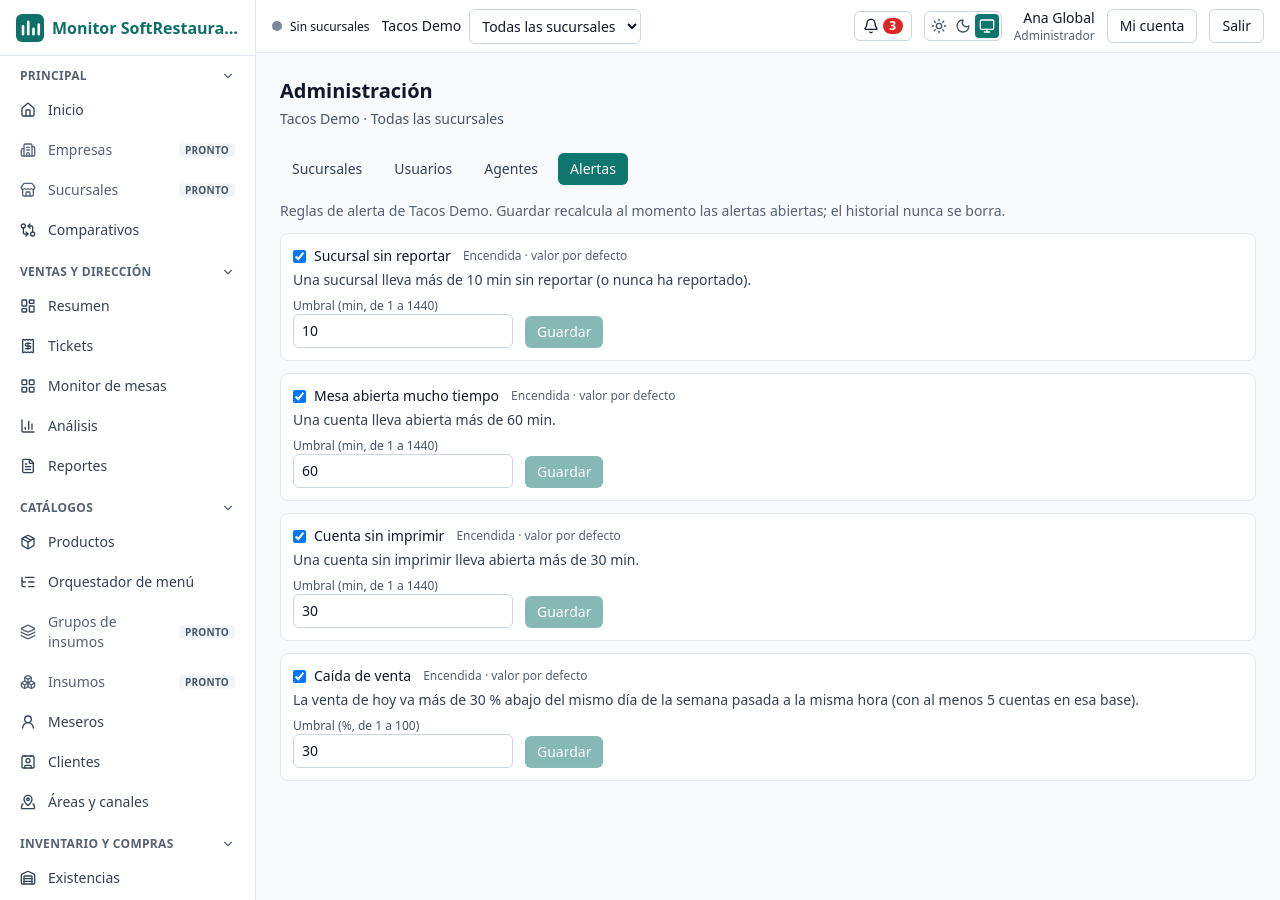
Test case: Administración › Alertas (reglas) › un umbral fuera de rango no se manda; un 400 del API se muestra
Replace the text in the field labelled "Umbral (%, de 1 a 100)" with "101" at {"x": 403, "y": 751}, box [293, 734, 513, 768]
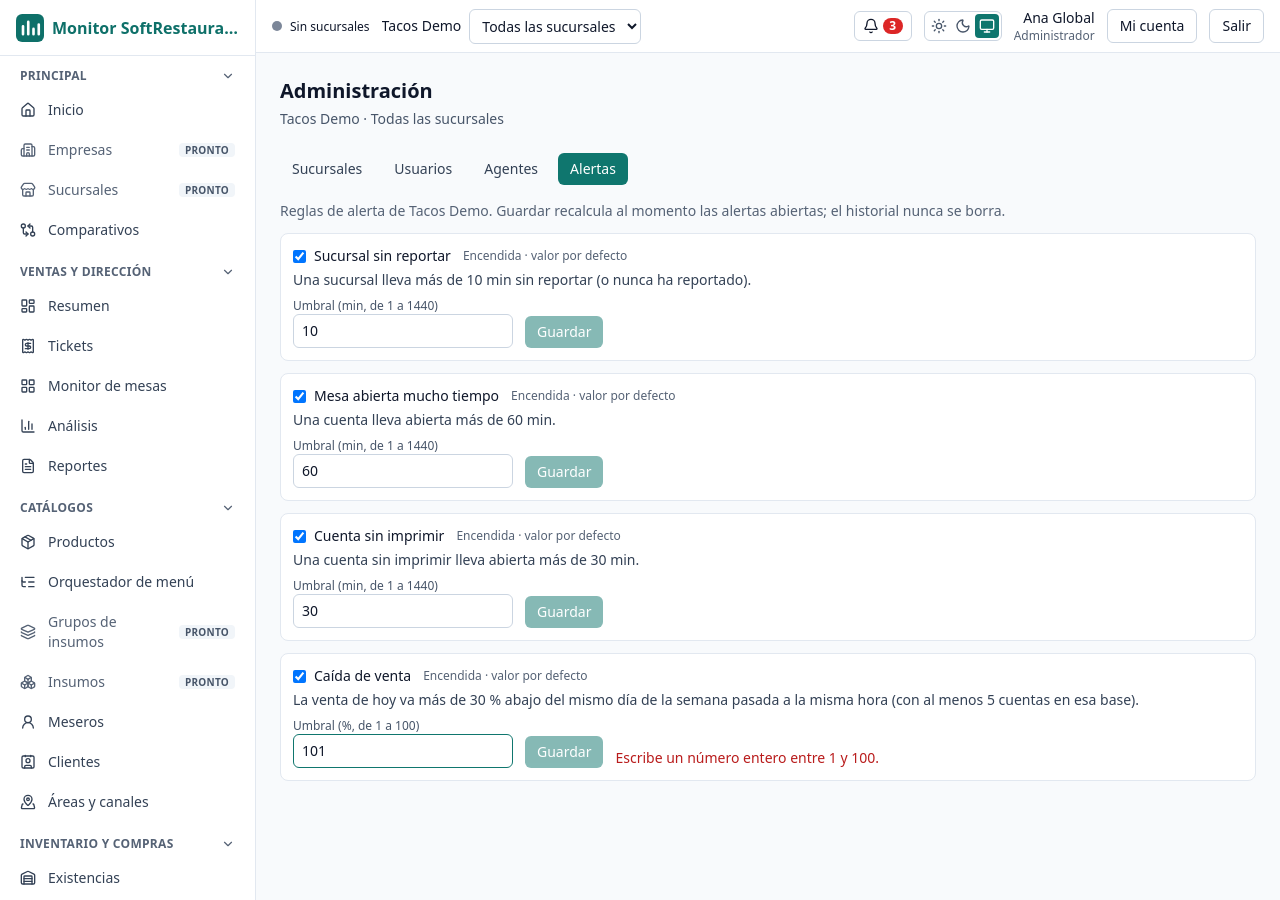
expect the button "Guardar" next to "Escribe un número entero entre" is disabled: met, box [525, 736, 604, 768]
expect the text "Escribe un número entero entre 1 y 100." is shown: met, box [616, 748, 879, 768]
Replace the text in the field labelled "Umbral (%, de 1 a 100)" with "30" at {"x": 403, "y": 751}, box [293, 734, 513, 768]
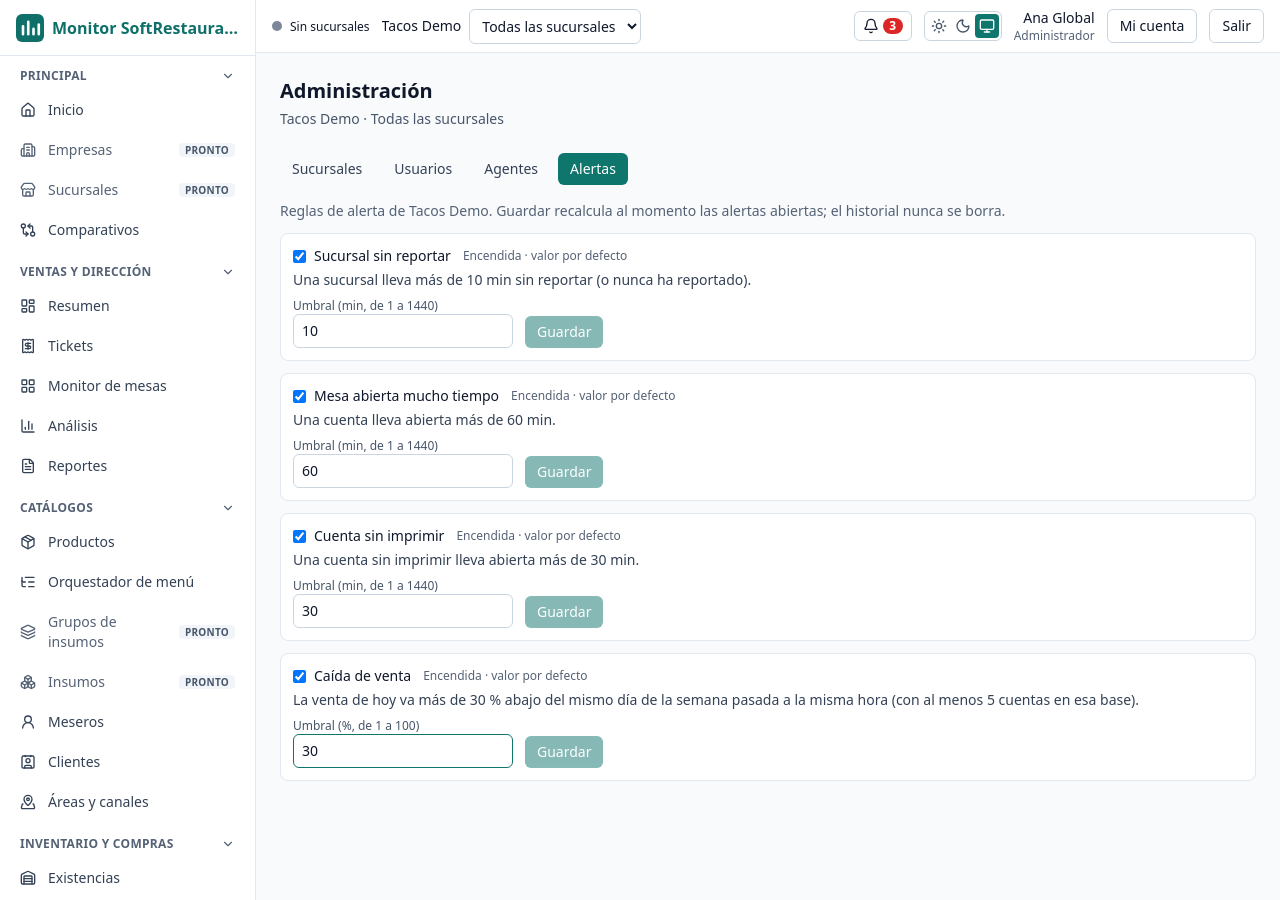
Click the checkbox labelled "Caída de venta".
click(300, 676)  # box [293, 670, 306, 682]
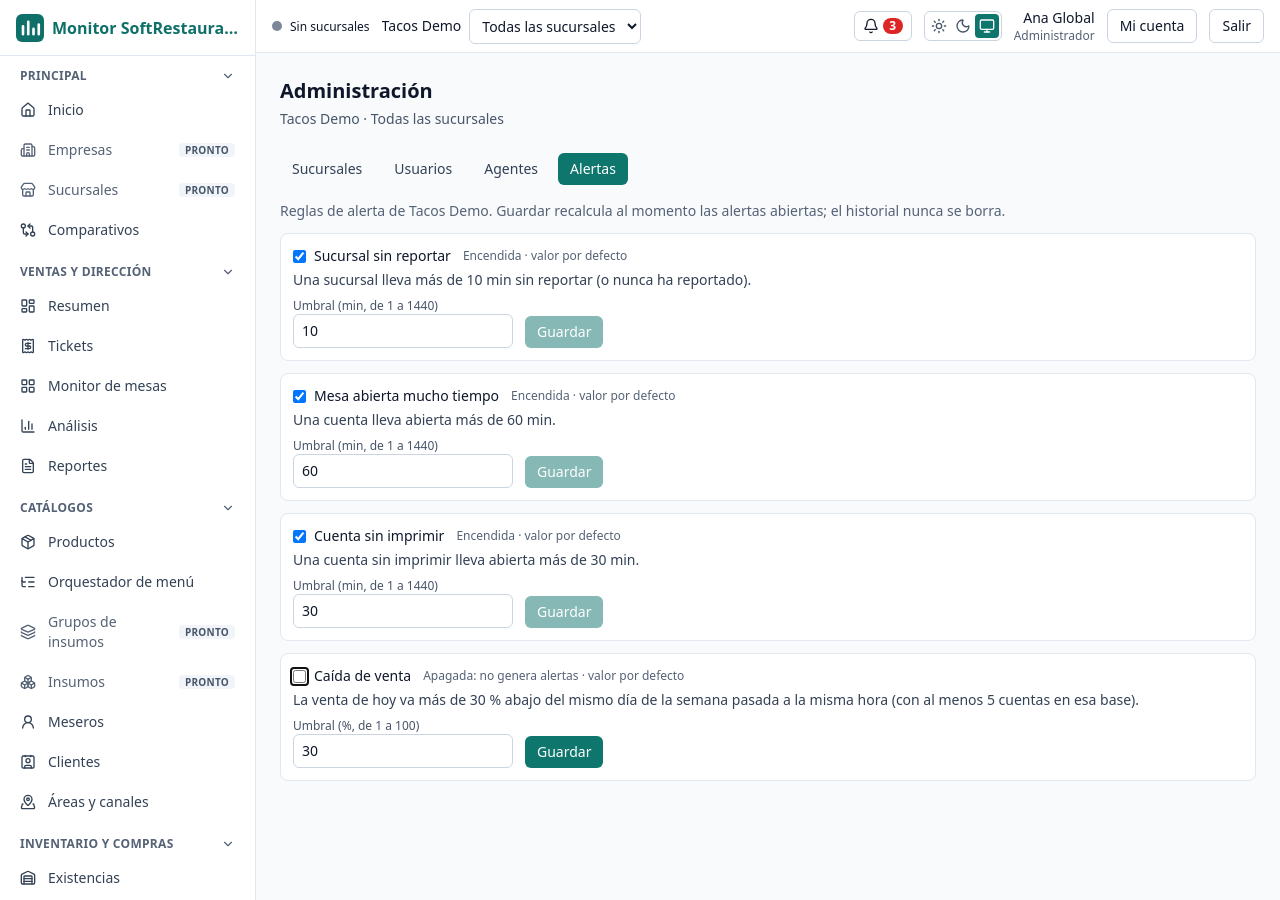
Click the button "Guardar" below "100".
click(564, 752)  # box [525, 736, 604, 768]
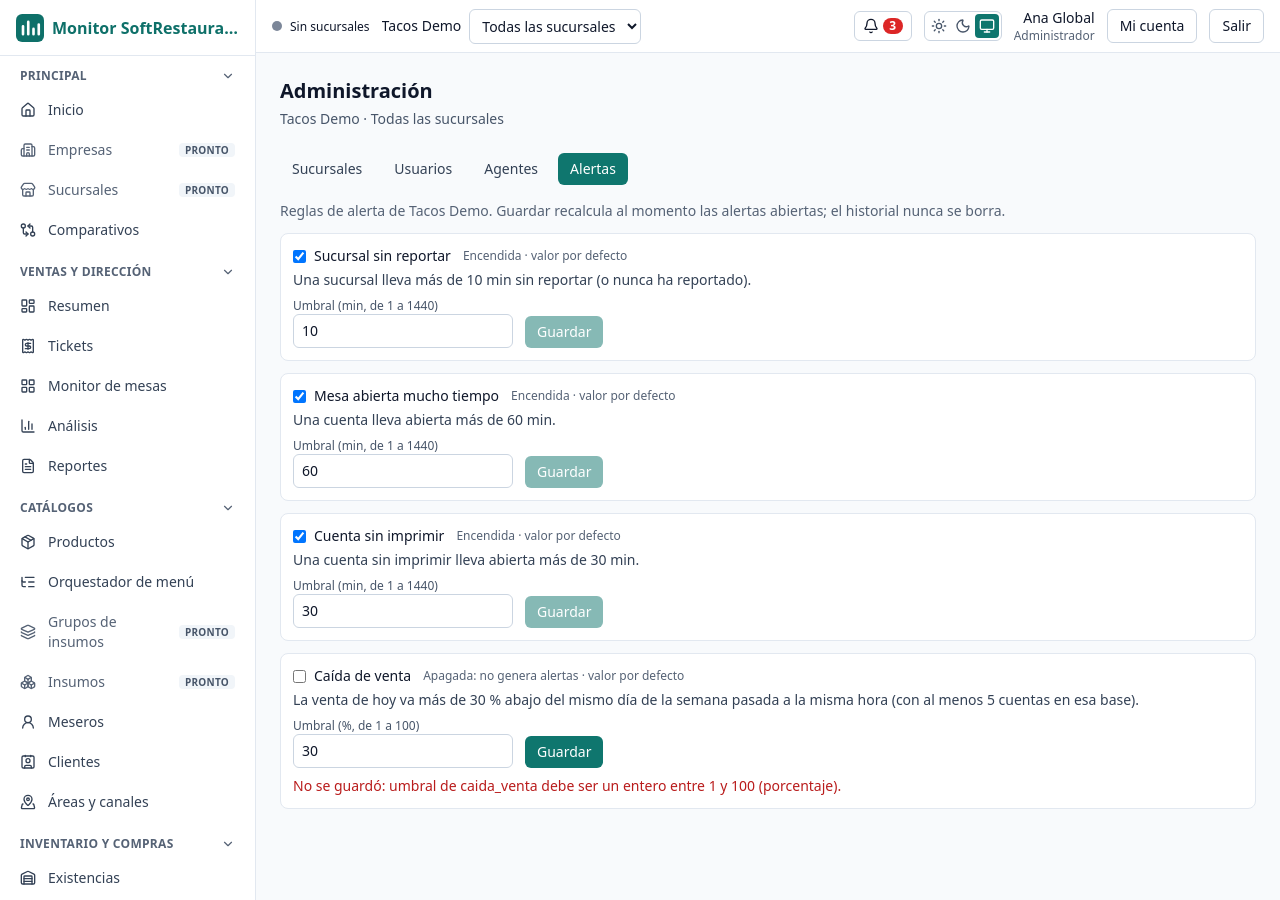
expect the message shows "No se guardó: umbral de caida_venta": met, box [293, 776, 841, 795]
